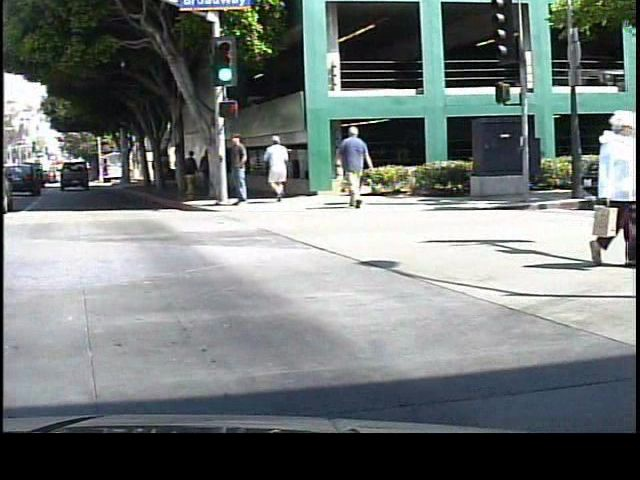person: (573, 105, 637, 272), (335, 122, 376, 208), (225, 129, 255, 212), (261, 131, 290, 204), (186, 141, 208, 193), (182, 147, 198, 194)
